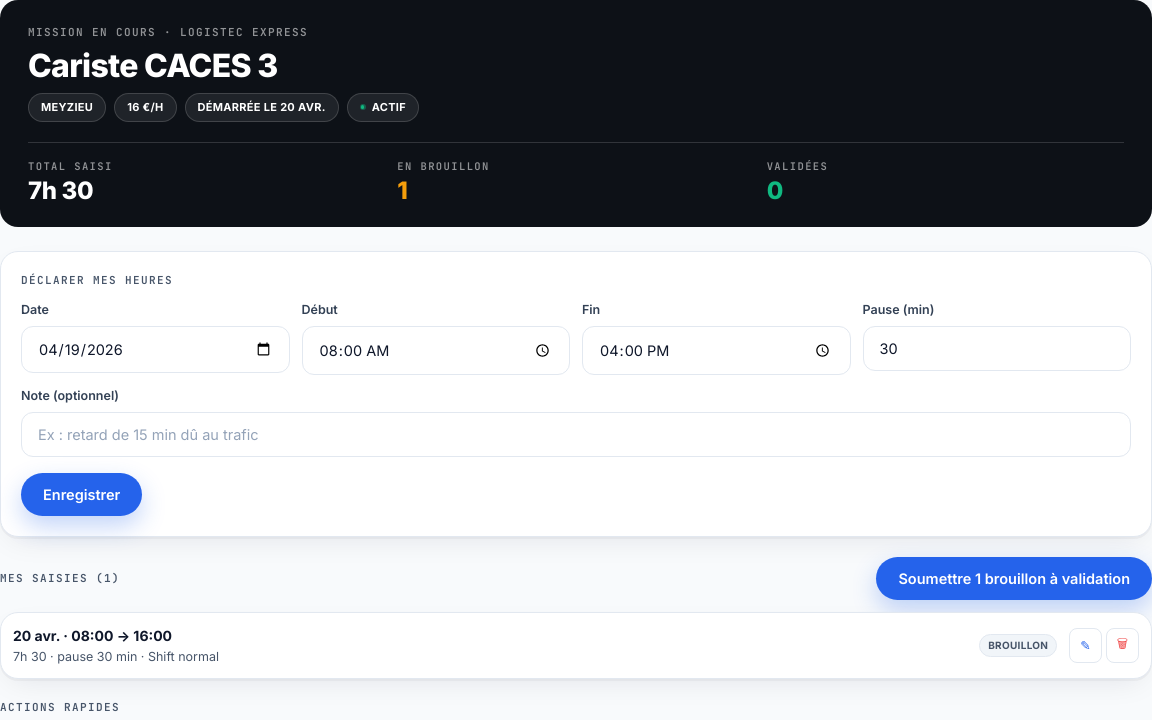
it: WorkerMissionHub › la suppression ouvre le ConfirmDialog et NE supprime PAS directement
Expected: the text "Brouillon" is shown, x1=979 y1=634 x2=1057 y2=657
Click the button named "Supprimer" at x=1122, y=646, box x1=1106 y1=628 x2=1139 y2=663
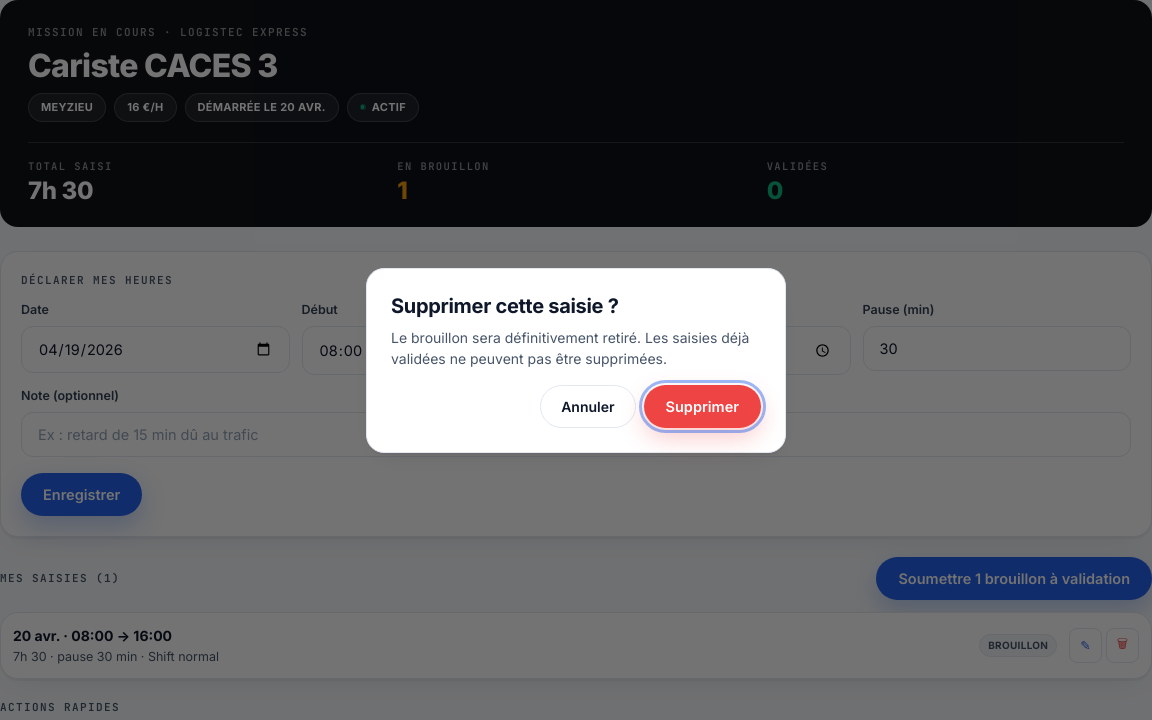
Now the heading "Supprimer cette saisie ?" is shown, box x1=391 y1=294 x2=618 y2=318
